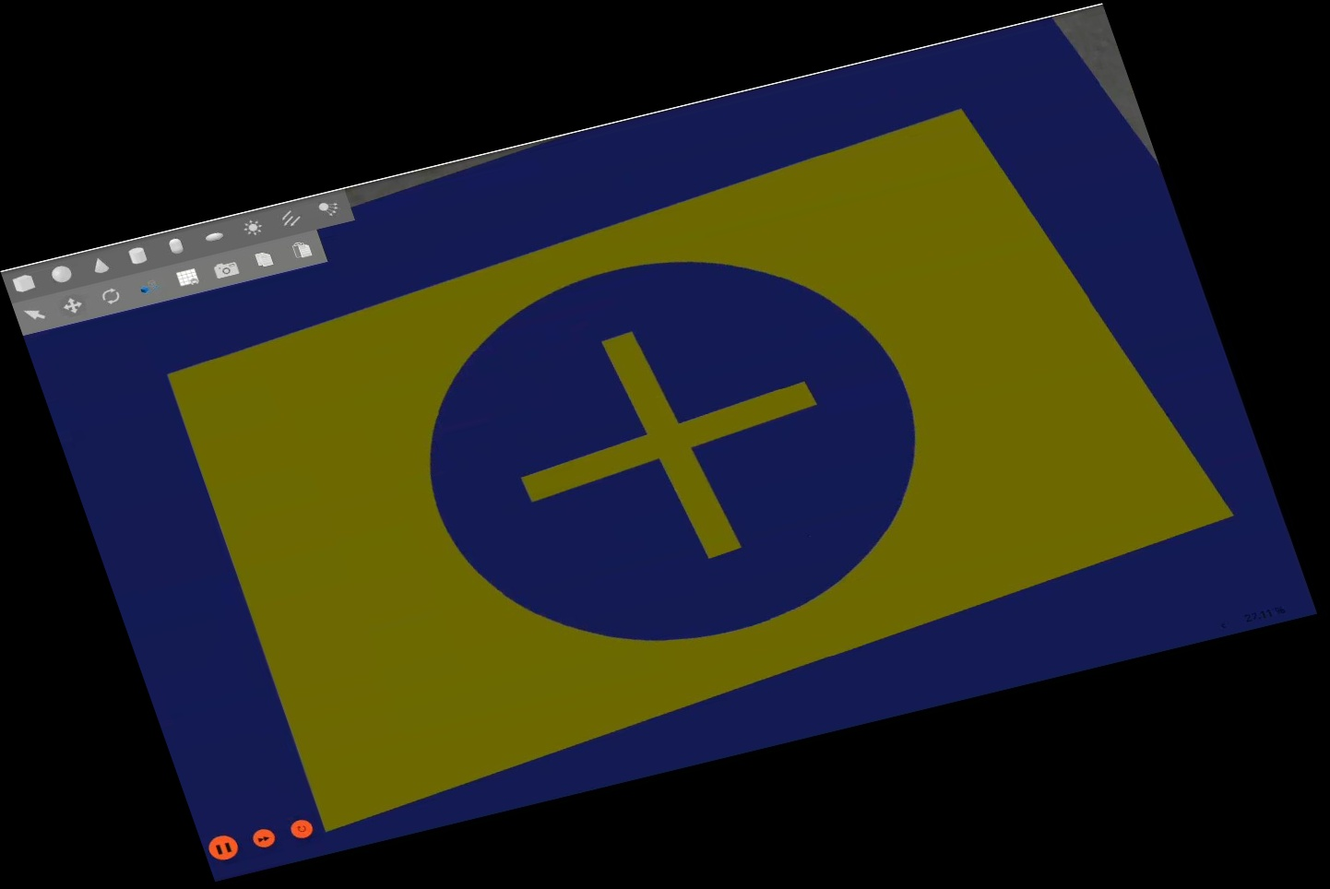large_base: (1, 4, 1318, 884)
